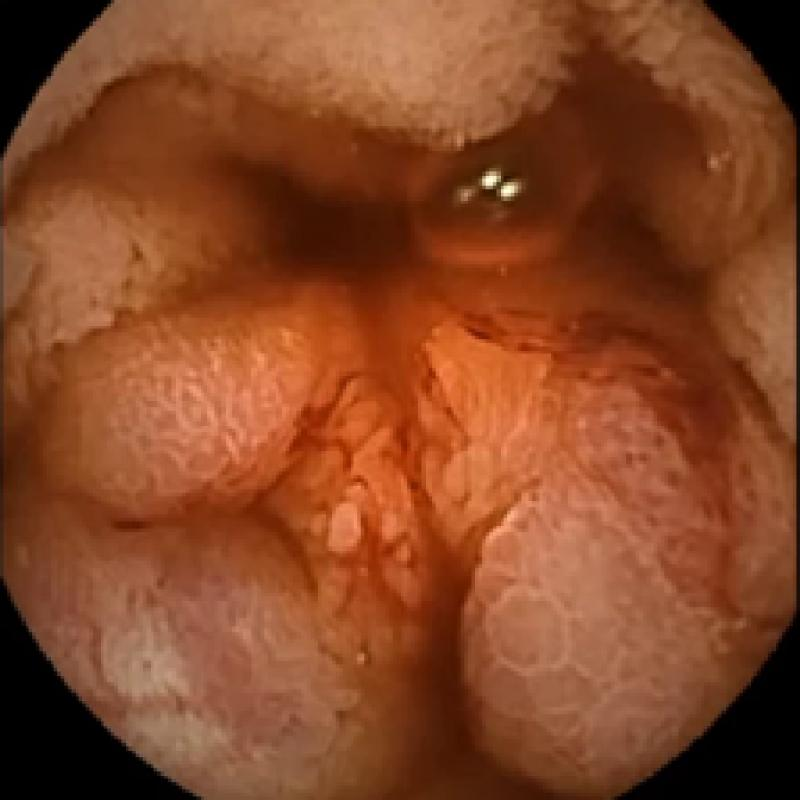bleeding: (104, 360, 405, 618), (432, 303, 789, 493)
